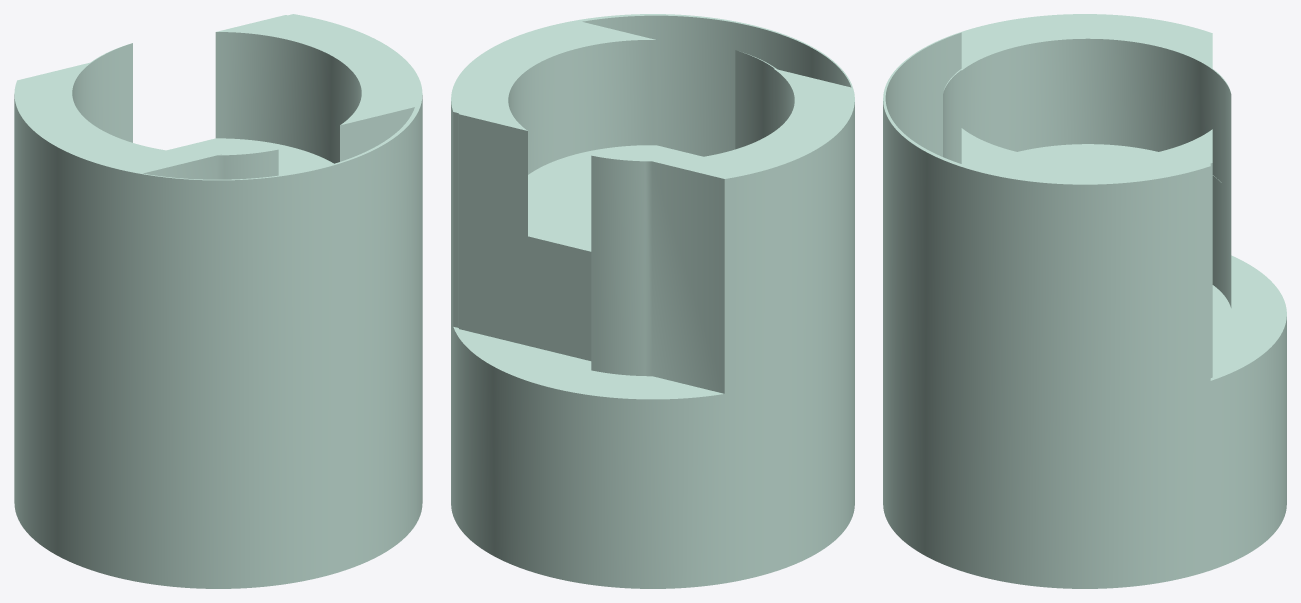
3 renders of one model, left to right at view 1: azimuth 30°, elevation 25°; view 2: azimuth 150°, elevation 25°; view 3: azimuth 270°, elevation 25°, orthographic.
Visible parts, largest first — view 1: Renderer Node; view 2: Renderer Node; view 3: Renderer Node.
Part boxes in pixels (bbox=[...]): Renderer Node: bbox=[14, 14, 422, 588]; Renderer Node: bbox=[451, 14, 854, 588]; Renderer Node: bbox=[883, 14, 1286, 588].
Bounding box in the file's own units: 0.6789 × 0.75 × 0.6789.
